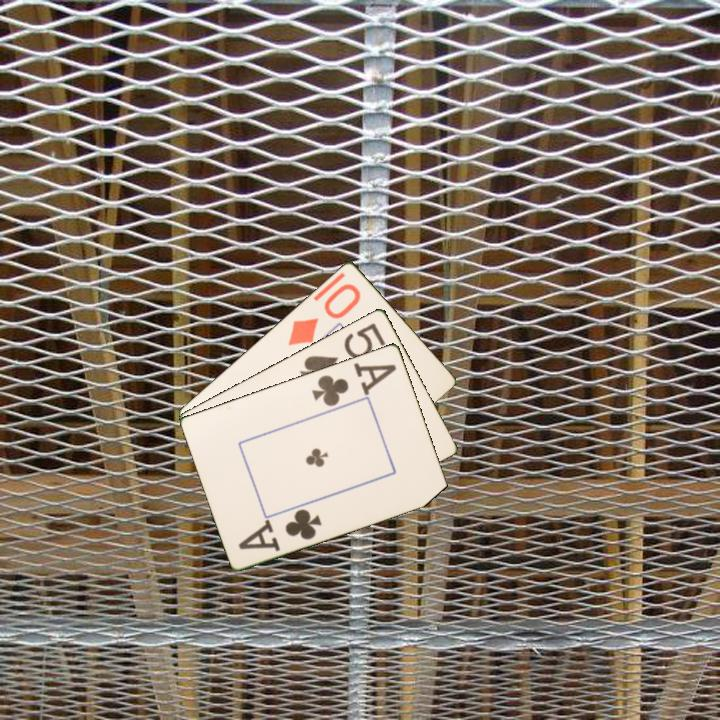10d: (284, 279, 364, 348)
5s: (296, 319, 389, 386)
Ac: (308, 358, 400, 409), (235, 505, 325, 554)
